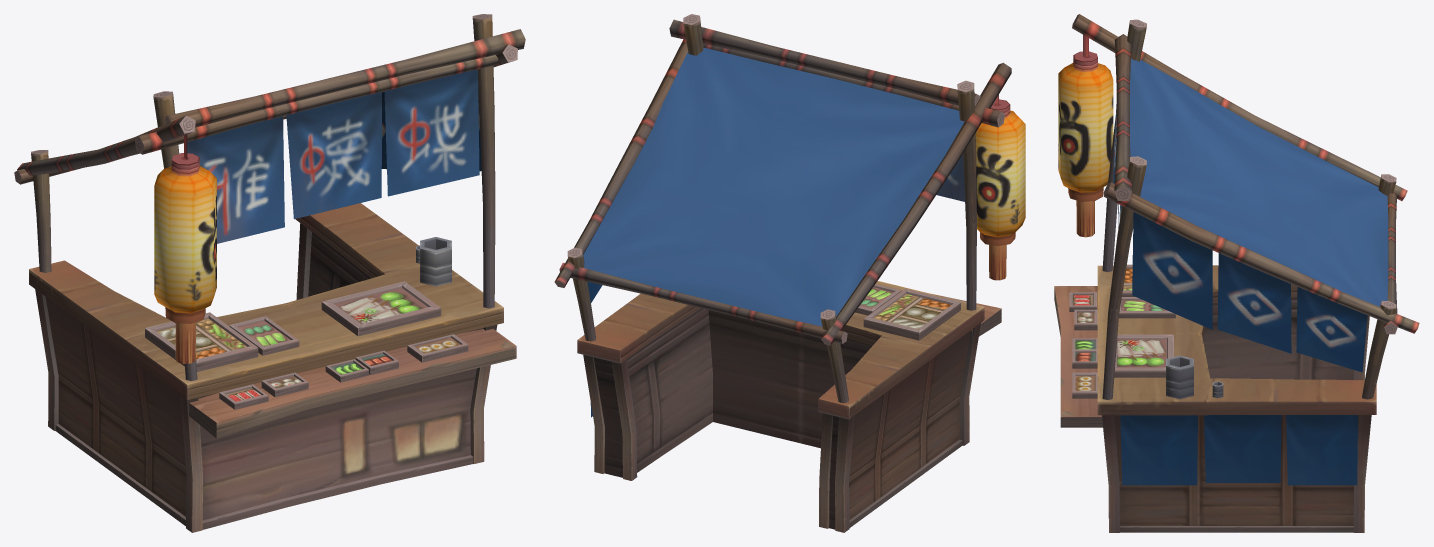
3 renders of one model, left to right at view 1: azimuth 30°, elevation 25°; view 2: azimuth 150°, elevation 25°; view 3: azimuth 270°, elevation 25°, orthographic. The views are drawn at different scales.
Parts seen in each view (by area): view 1: wq_jz001_02; view 2: wq_jz001_02; view 3: wq_jz001_02.
Boxes of the visible parts, bbox=[...] form: wq_jz001_02: bbox=[14, 14, 525, 532]; wq_jz001_02: bbox=[554, 14, 1025, 532]; wq_jz001_02: bbox=[1054, 14, 1419, 532].
Size of the model in its own units: 230 by 250 by 215.
1 material, 1 textured.
